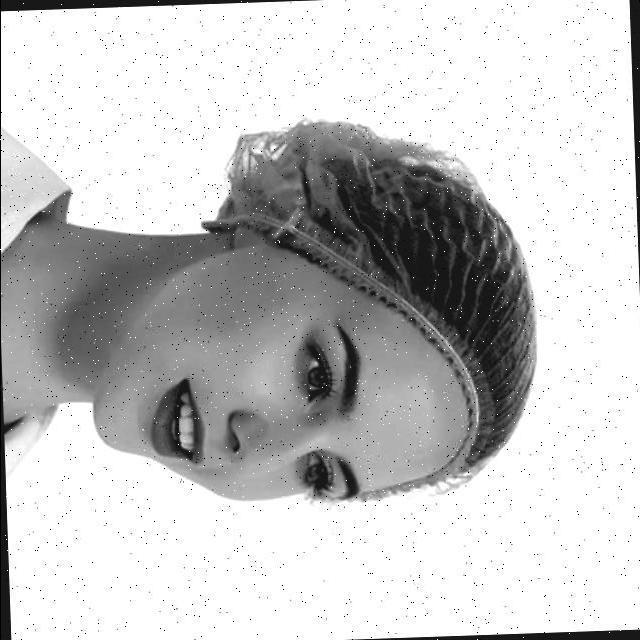gloves: (328, 115, 534, 516)
no_hairnet: (154, 315, 295, 465)
